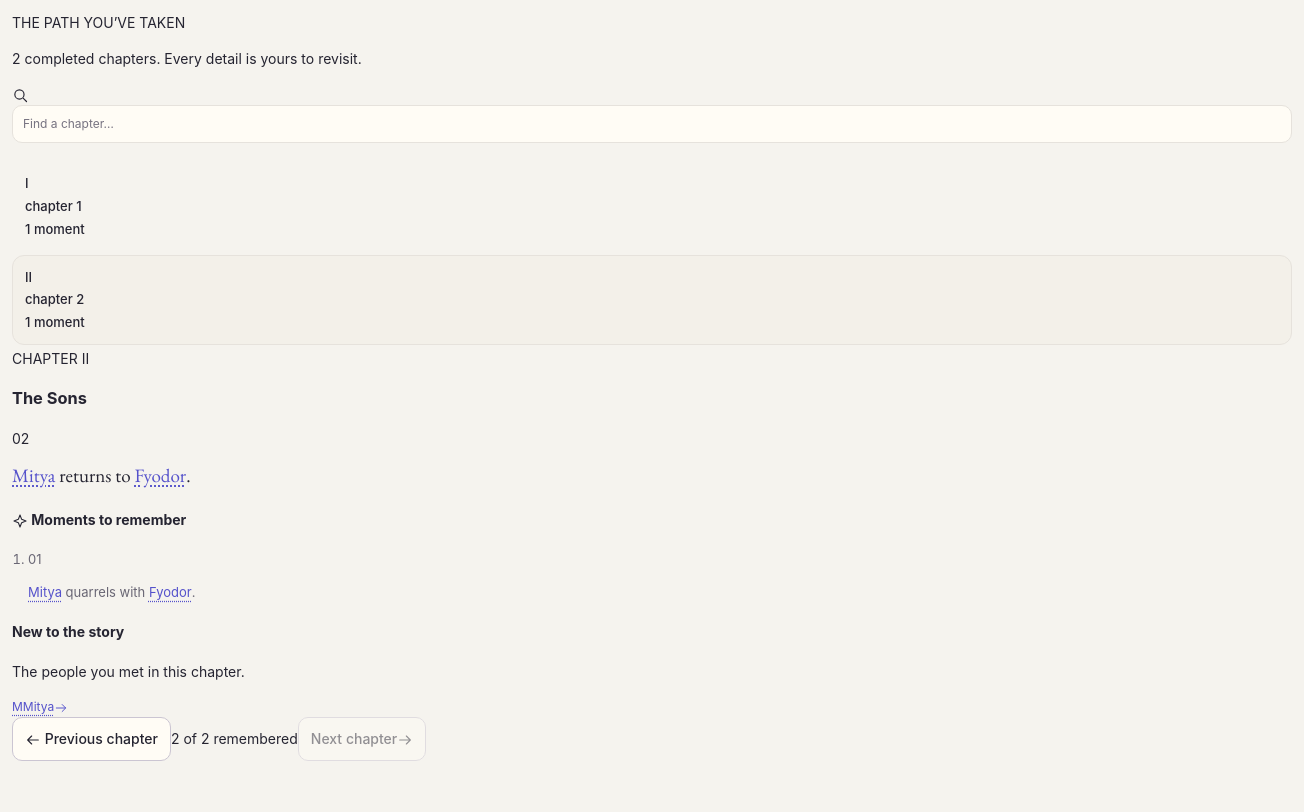
Test case: ChapterBreakdown › opens only the current chapter by default; clicking another re-times and moves disclosure
Expected: the text "Mitya quarrels with Fyodor ." is shown, [28,582,196,602]
Expected: the text "buys the estate" is not shown
Click the button with aria-label "The Elder".
click(49, 206)  # box [25,174,1279,239]
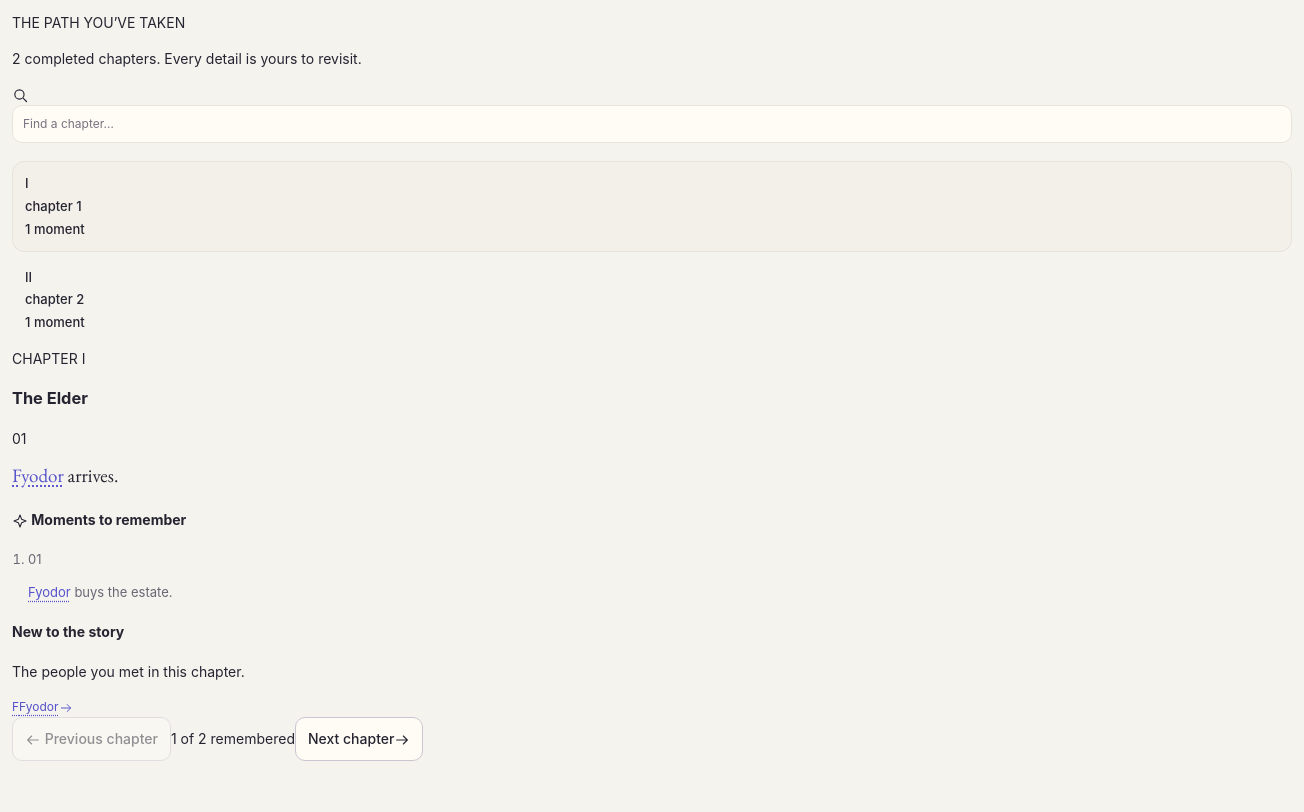
Expected: the text "Fyodor buys the estate." is shown, [28,582,172,602]
Expected: the text "quarrels with" is gone
